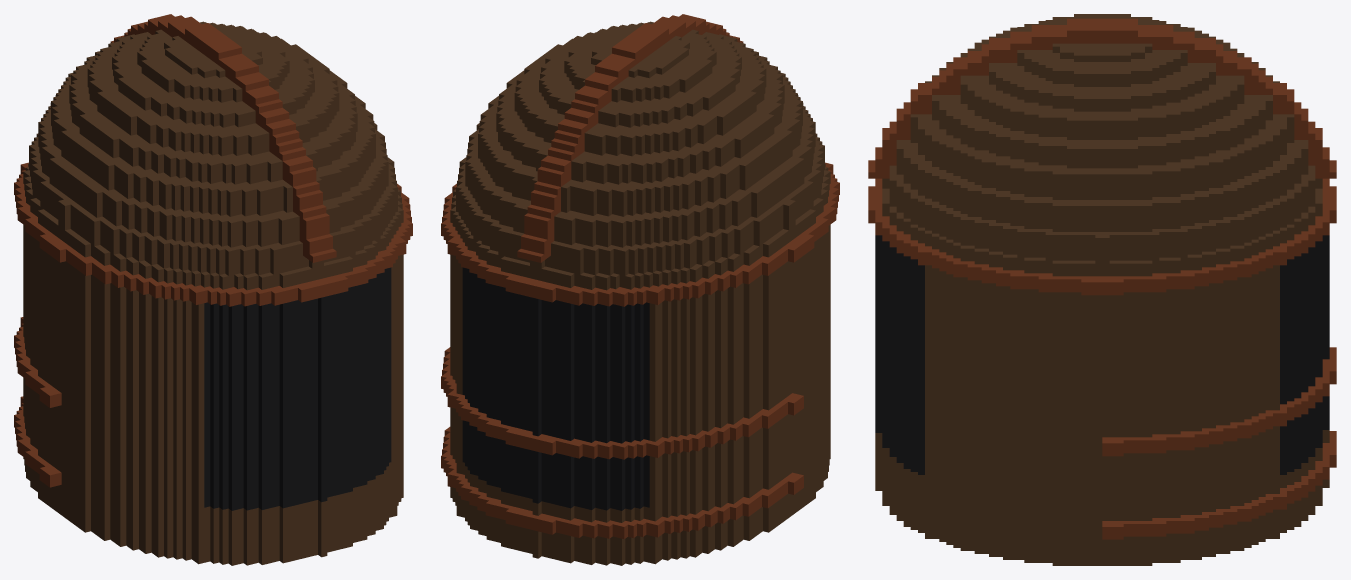
Rendered from helmet_chitin_light.glb.
3 renders of one model, left to right at view 1: azimuth 30°, elevation 25°; view 2: azimuth 150°, elevation 25°; view 3: azimuth 270°, elevation 25°, orthographic. The views are drawn at different scales.
Parts seen in each view (by area): view 1: helmet_chitin_light:compound; view 2: helmet_chitin_light:compound; view 3: helmet_chitin_light:compound.
Boxes of the visible parts, bbox=[...] form: helmet_chitin_light:compound: bbox=[14, 14, 412, 565]; helmet_chitin_light:compound: bbox=[441, 14, 839, 565]; helmet_chitin_light:compound: bbox=[868, 14, 1336, 565].
Size of the model in its own units: 0.224 by 0.288 by 0.264.
